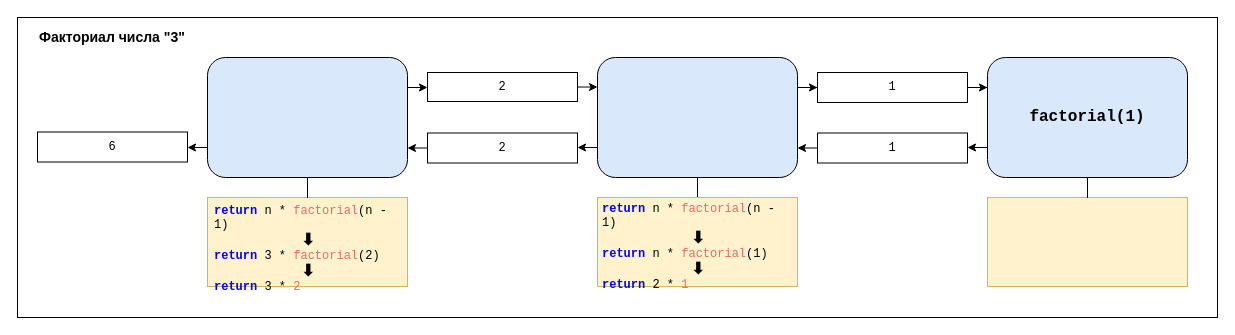
Some shapes in this 1235 by 335 pixel diagram are drawn without their labels. Each missing label, with the centre of its shape:
factorial(2): point (697, 117)
factorial(3): point (307, 117)
if (n === 1) return n ⬇ if (1 === 1) return 1 ⬇ return 1: point (1087, 241)
